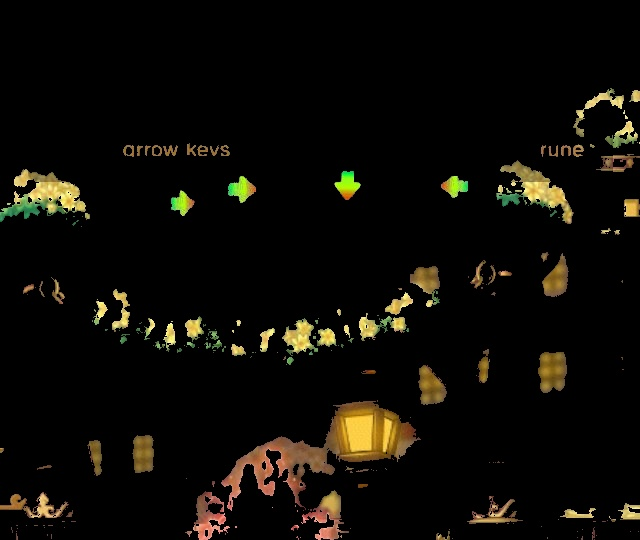down: (329, 165, 367, 206)
left: (435, 169, 472, 204)
right: (220, 170, 268, 212), (163, 183, 202, 220)
